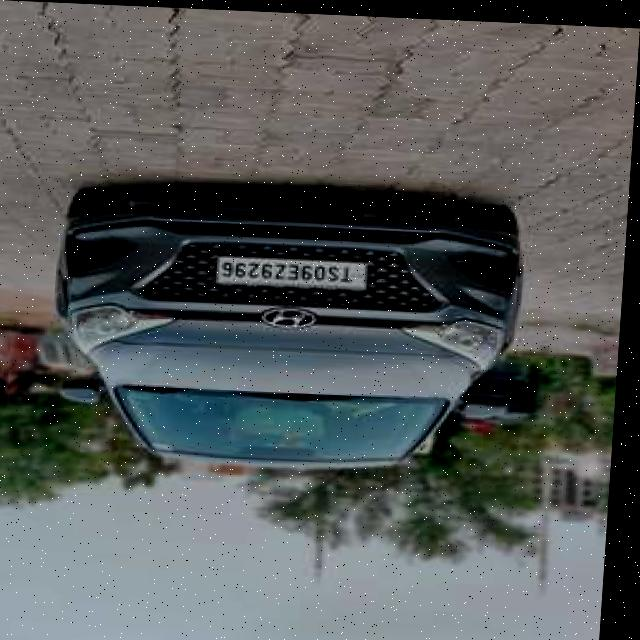plate: (218, 256, 373, 284)
